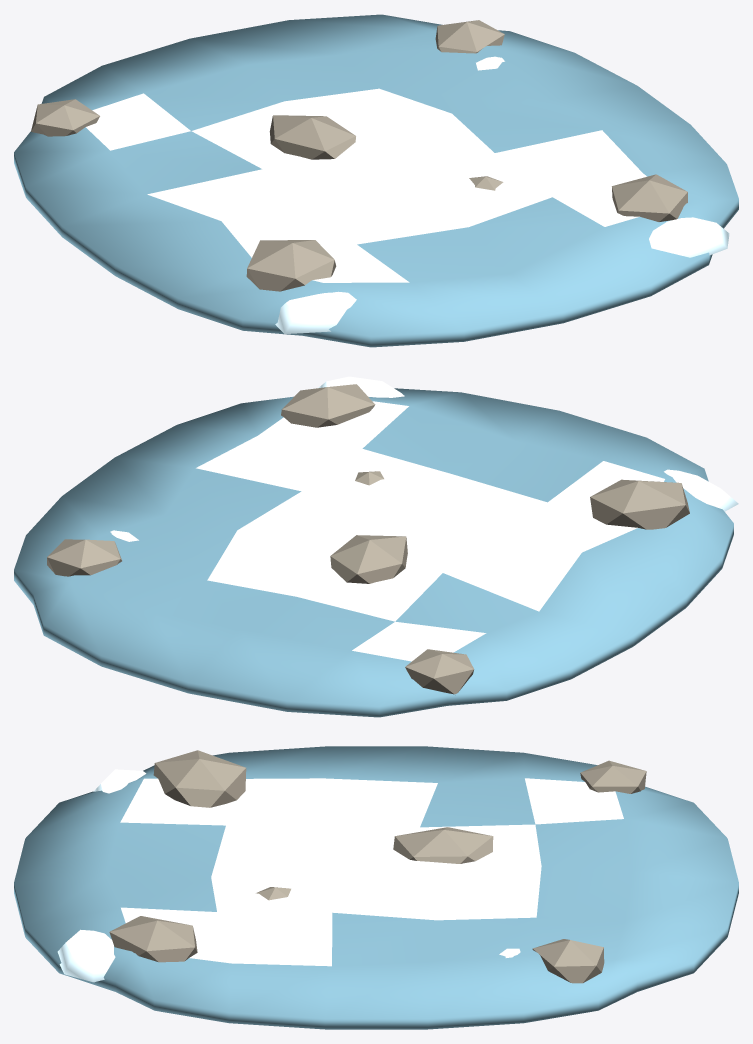
File: rapids.glb
3 renders of one model, top to bottom at view 1: azimuth 30°, elevation 25°; view 2: azimuth 150°, elevation 25°; view 3: azimuth 270°, elevation 25°, orthographic. The views are drawn at different scales.
Visible parts, largest first — view 1: rapids; view 2: rapids; view 3: rapids.
Boxes of the visible parts, x1,y1,x2,y2 form: rapids: (14, 14, 738, 347); rapids: (14, 376, 738, 717); rapids: (14, 746, 738, 1029).
Size of the model in its own units: 16 by 1.5 by 18.
